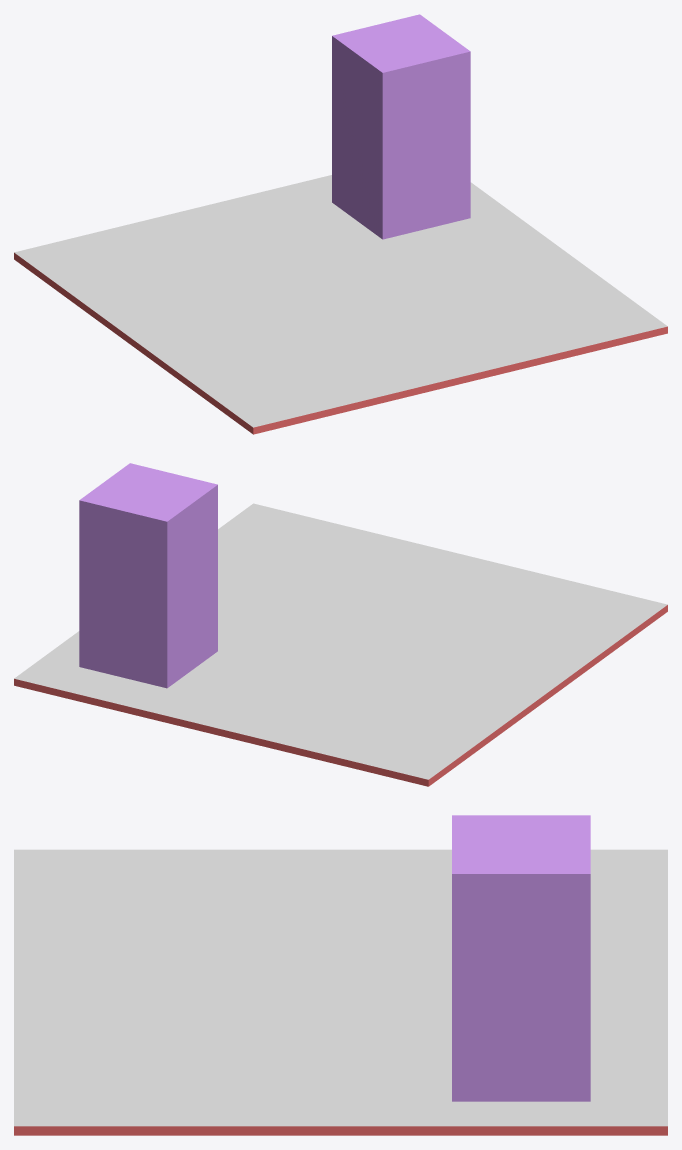
The model's file is demo.glb.
3 views of the same model, one above another, from view 1: azimuth 30°, elevation 25°; view 2: azimuth 150°, elevation 25°; view 3: azimuth 270°, elevation 25° (orthographic). The views are drawn at different scales.
Visible parts, largest first — view 1: Plane, trigger_volume, brush_floor; view 2: Plane, trigger_volume, brush_floor; view 3: Plane, trigger_volume, brush_floor.
Boxes of the visible parts, left/top/right/bottom form: Plane: left=14, top=175, right=667, bottom=427; trigger_volume: left=332, top=14, right=470, bottom=239; brush_floor: left=14, top=252, right=667, bottom=434; Plane: left=14, top=503, right=667, bottom=779; trigger_volume: left=79, top=463, right=217, bottom=688; brush_floor: left=14, top=605, right=667, bottom=786; Plane: left=14, top=849, right=667, bottom=1126; trigger_volume: left=452, top=815, right=590, bottom=1101; brush_floor: left=14, top=1126, right=667, bottom=1135.
Size of the model in its own units: 17 by 6.81 by 17.
